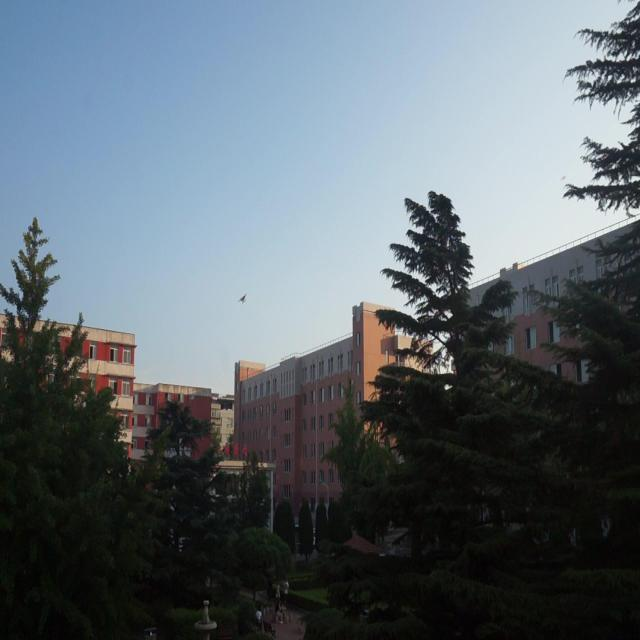drone: (237, 289, 249, 305)
